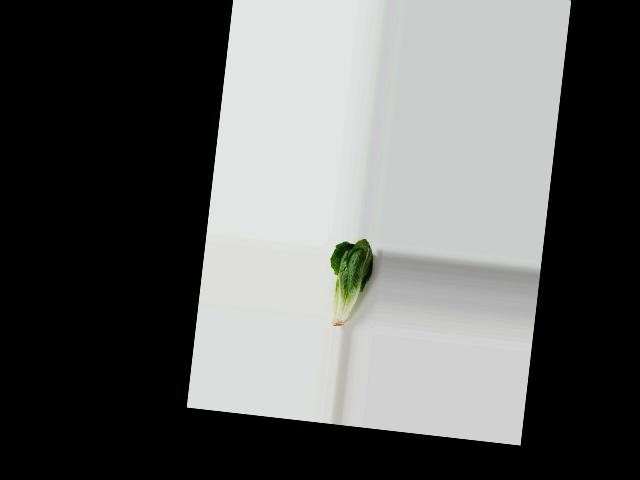lettuce: (321, 234, 378, 333)
